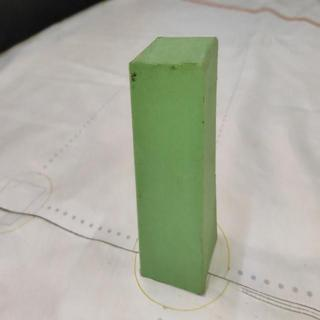greenbox: (129, 36, 217, 295)
